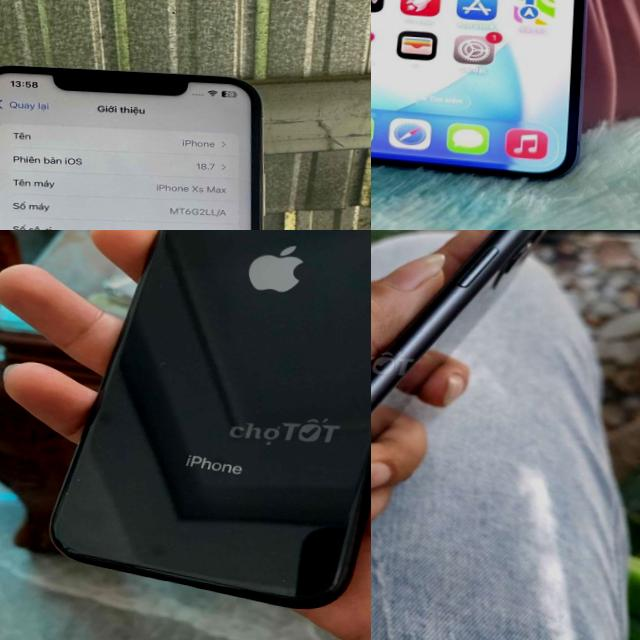gen_11: (371, 230, 570, 583)
gen_12_13: (371, 0, 614, 192)
gen_x_xs: (51, 230, 371, 607), (0, 58, 301, 230)
